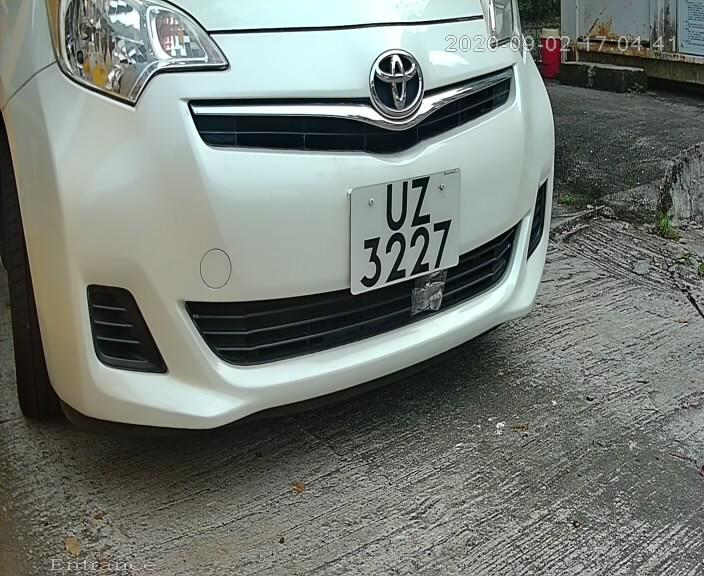Car: (7, 3, 576, 456)
License Plate: (343, 157, 469, 304)
